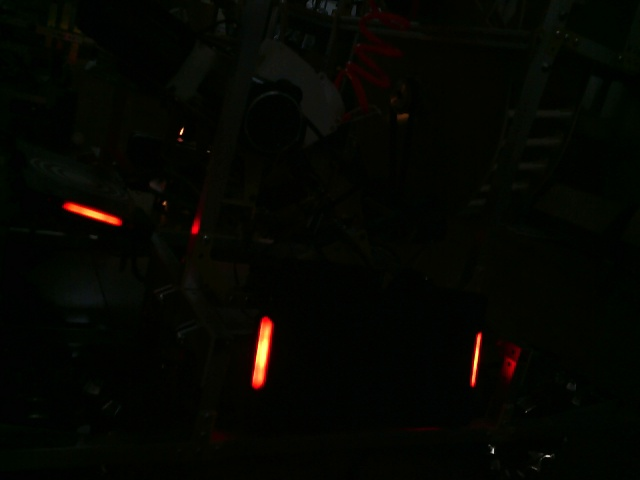lamp: (249, 315, 277, 392), (470, 331, 485, 391)
